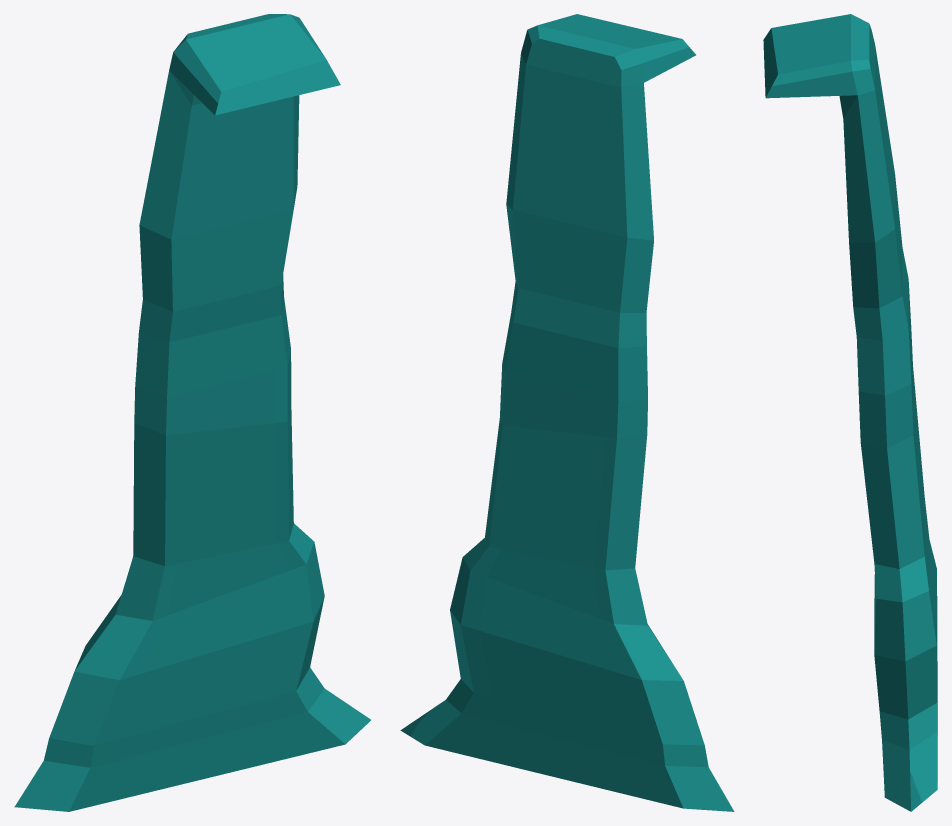
Rendered from CascadaAnimada_000017.obj.
The picture shows the model from 3 angles, left to right: view 1: azimuth 30°, elevation 25°; view 2: azimuth 150°, elevation 25°; view 3: azimuth 270°, elevation 25°; orthographic projection. The views are drawn at different scales.
Parts seen in each view (by area): view 1: Cube.053, Cube.054; view 2: Cube.053, Cube.054; view 3: Cube.053, Cube.054.
Boxes of the visible parts, bbox=[...] form: Cube.053: bbox=[14, 14, 370, 811]; Cube.054: bbox=[169, 14, 340, 115]; Cube.053: bbox=[400, 25, 734, 811]; Cube.054: bbox=[538, 14, 695, 82]; Cube.053: bbox=[839, 14, 937, 811]; Cube.054: bbox=[763, 14, 857, 98].
Bounding box in the file's own units: 136 × 277 × 62.23.
